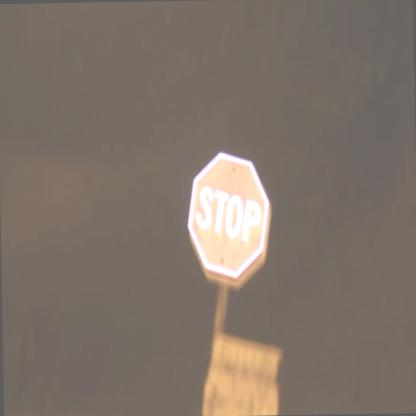stop: (184, 149, 271, 283)
